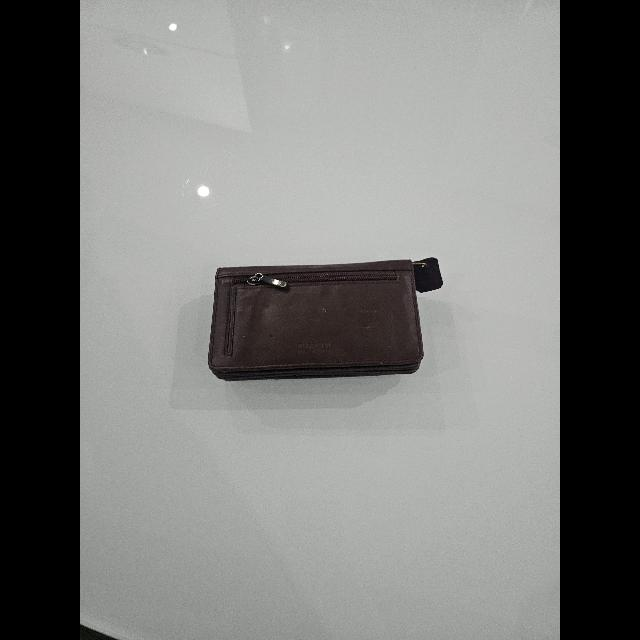Wallet: (208, 258, 436, 379)
